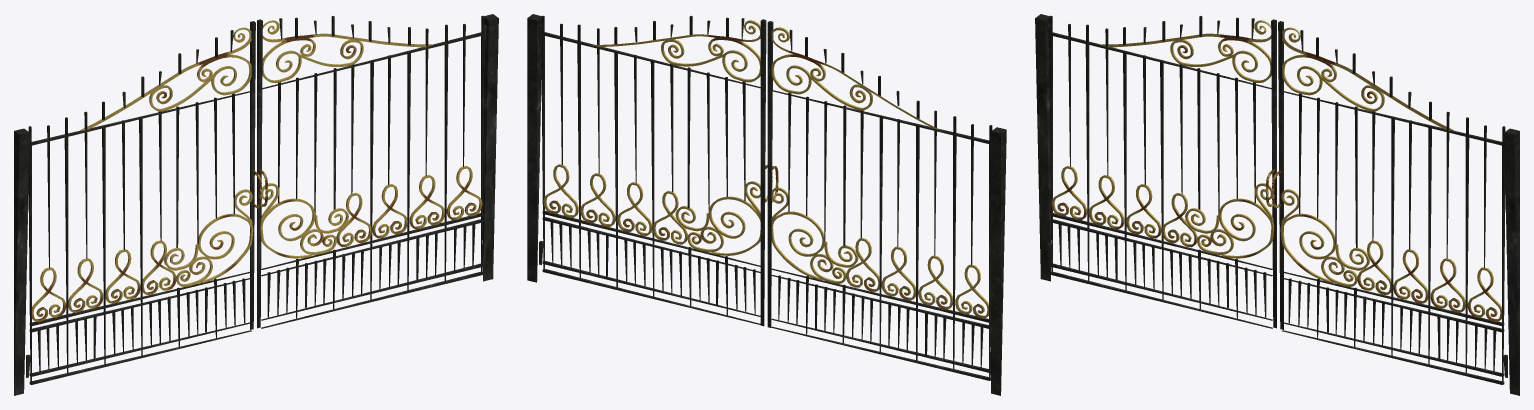
The model's file is gate.fbx.
3 views of the same model, side by side, from view 1: azimuth 30°, elevation 25°; view 2: azimuth 150°, elevation 25°; view 3: azimuth 330°, elevation 25° (orthographic).
Parts seen in each view (by area): view 1: gateway:gatewaypCube242, gatewaypCube242, polySurface1, polySurface2; view 2: gateway:gatewaypCube242, gatewaypCube242, polySurface1, polySurface2; view 3: gatewaypCube242, gateway:gatewaypCube242, polySurface2, polySurface1.
Boxes of the visible parts, x1,y1,x2,y2 form: gateway:gatewaypCube242: (257, 15, 486, 328); gatewaypCube242: (26, 21, 262, 384); polySurface1: (14, 128, 29, 395); polySurface2: (483, 14, 498, 281); gateway:gatewaypCube242: (539, 15, 772, 326); gatewaypCube242: (767, 21, 992, 380); polySurface1: (991, 127, 1006, 395); polySurface2: (527, 14, 541, 282); gatewaypCube242: (1047, 15, 1276, 328); gateway:gatewaypCube242: (1271, 21, 1507, 384); polySurface2: (1504, 128, 1519, 395); polySurface1: (1035, 14, 1050, 281).
Size of the model in its own units: 468 by 297 by 18.57.
Materials: 1 (1 with a texture image).
